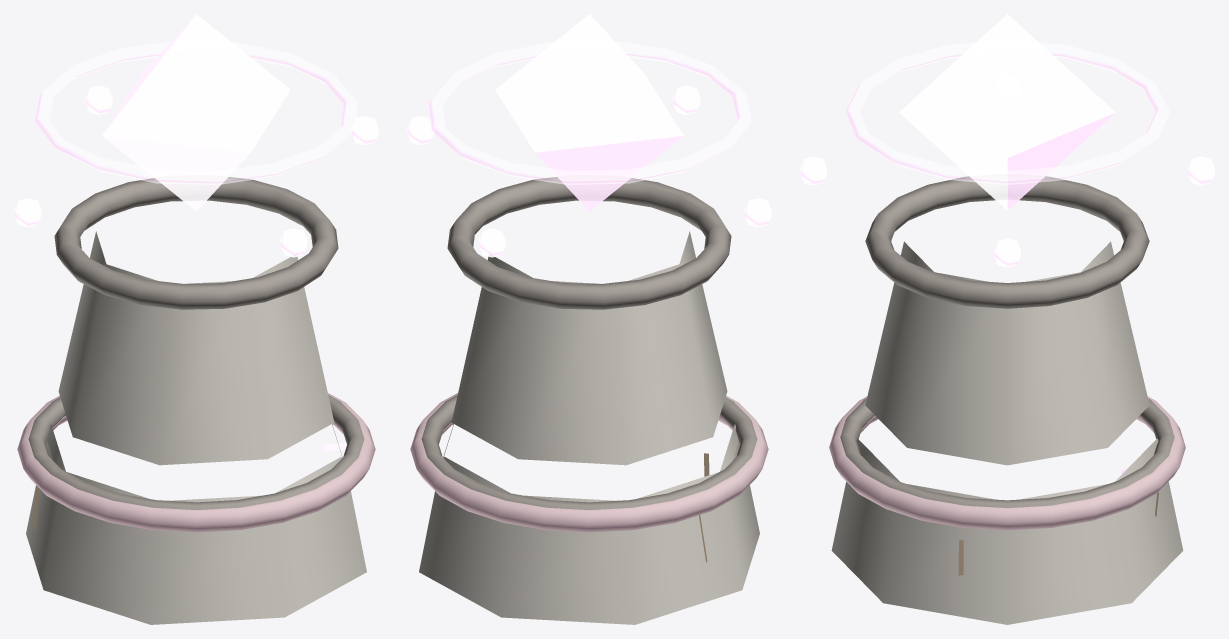
The model's file is tower_amp_1.glb.
The picture shows the model from 3 angles, left to right: view 1: azimuth 30°, elevation 25°; view 2: azimuth 150°, elevation 25°; view 3: azimuth 270°, elevation 25°; orthographic projection.
Visible parts, largest first — view 1: turret, base; view 2: turret, base; view 3: turret, base.
Boxes of the visible parts, x1,y1,x2,y2 form: turret: (14, 14, 378, 465); base: (17, 393, 375, 624); turret: (407, 14, 771, 465); base: (410, 393, 768, 624); turret: (800, 14, 1214, 465); base: (829, 396, 1185, 624).
Size of the model in its own units: 3.24 by 4.58 by 3.21.
